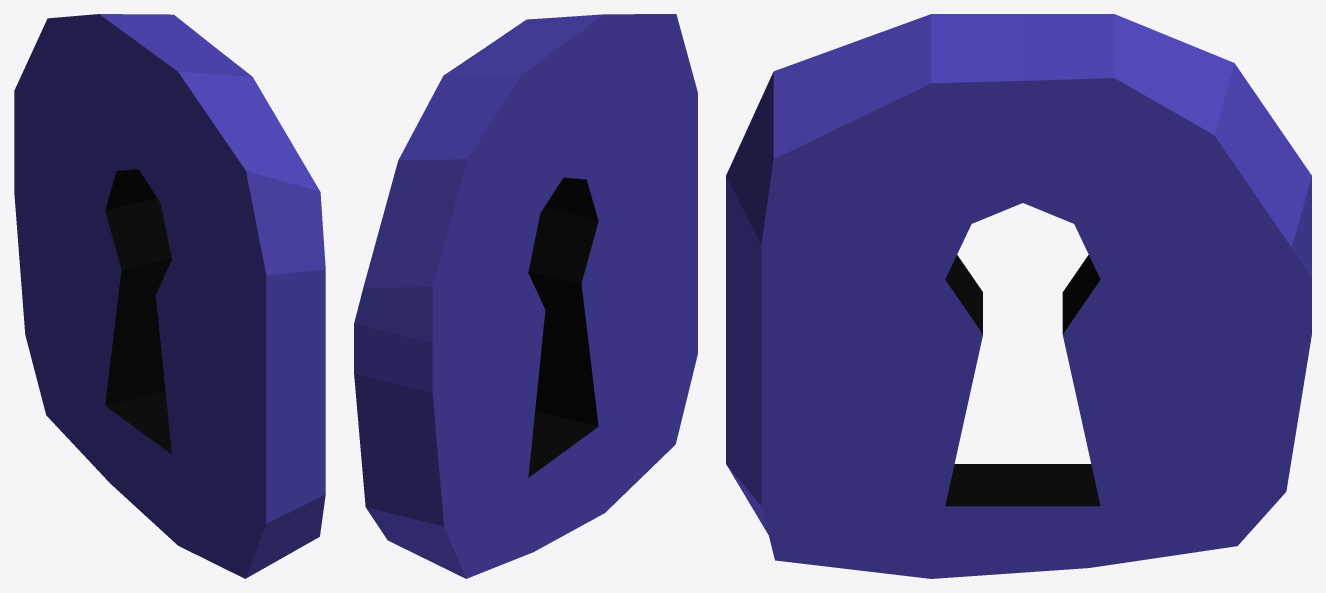
File: CerraduraAzul.fbx
3 renders of one model, left to right at view 1: azimuth 30°, elevation 25°; view 2: azimuth 150°, elevation 25°; view 3: azimuth 270°, elevation 25°, orthographic. The views are drawn at different scales.
Visible parts, largest first — view 1: Cube; view 2: Cube; view 3: Cube.
Part boxes in pixels (bbox=[...]): Cube: bbox=[14, 14, 325, 578]; Cube: bbox=[354, 14, 697, 578]; Cube: bbox=[726, 14, 1311, 578].
Size of the model in its own units: 2.54 by 15.41 by 14.86.
